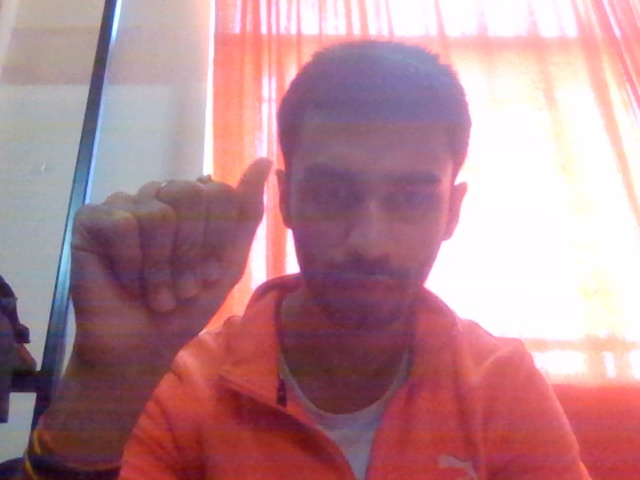A: (51, 149, 288, 401)
